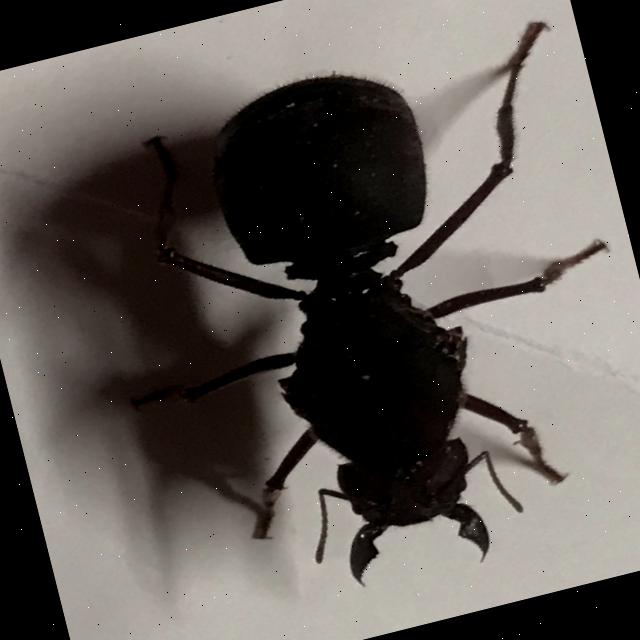Alive-Female-Dealate: (62, 13, 640, 637)
